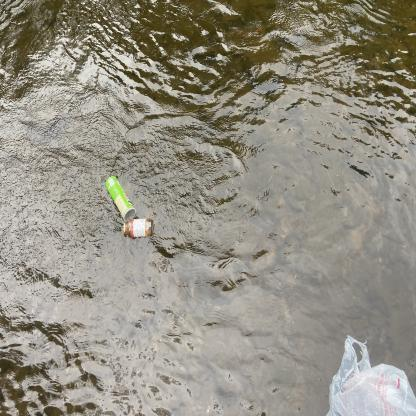trash: (322, 332, 416, 416), (104, 173, 135, 220), (122, 217, 153, 239)
